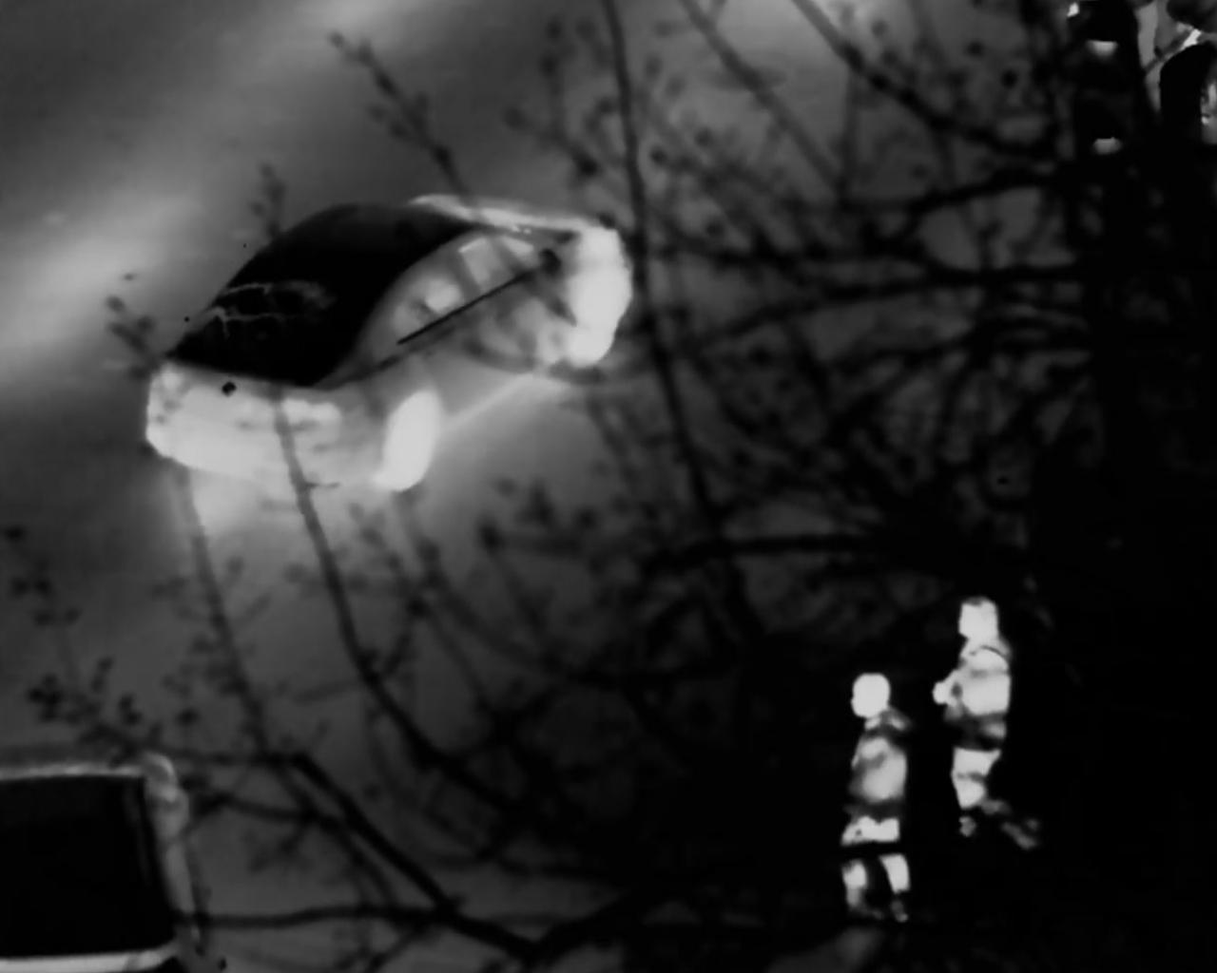person: (822, 670, 915, 923), (930, 599, 1026, 838)
